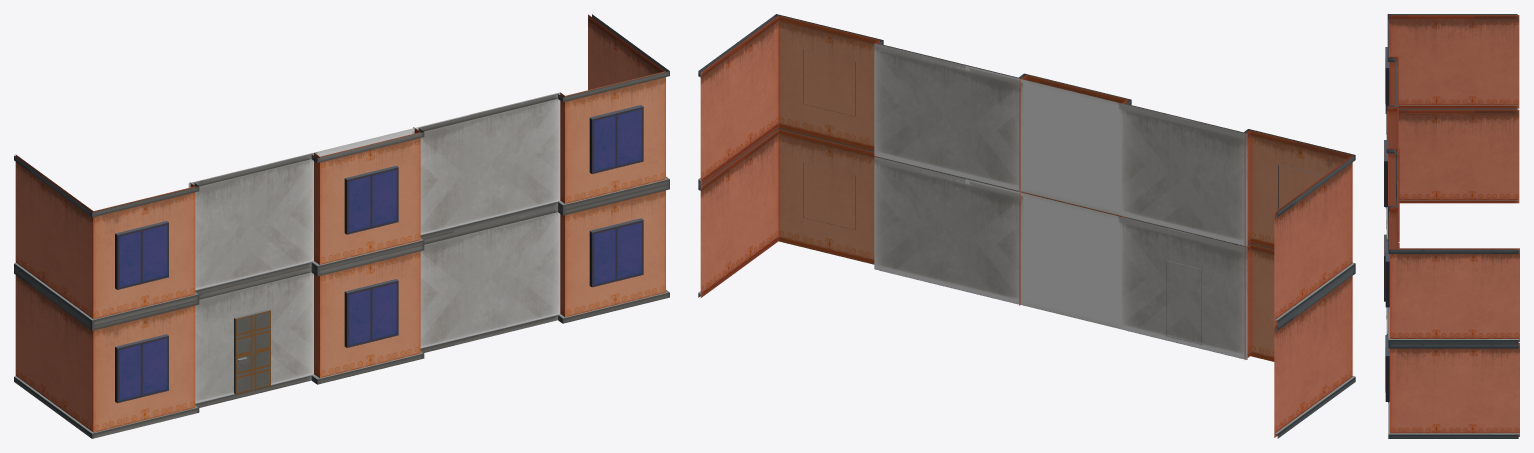
Rendered from House_2floors.fbx.
The picture shows the model from 3 angles, left to right: view 1: azimuth 30°, elevation 25°; view 2: azimuth 150°, elevation 25°; view 3: azimuth 270°, elevation 25°; orthographic projection. The views are drawn at different scales.
Visible parts, largest first — view 1: Cube.003; view 2: Cube.003; view 3: Cube.003.
Part boxes in pixels (bbox=[...]): Cube.003: bbox=[14, 14, 669, 438]; Cube.003: bbox=[698, 14, 1355, 438]; Cube.003: bbox=[1384, 14, 1519, 438].
Size of the model in its own units: 1757 by 658 by 428.
